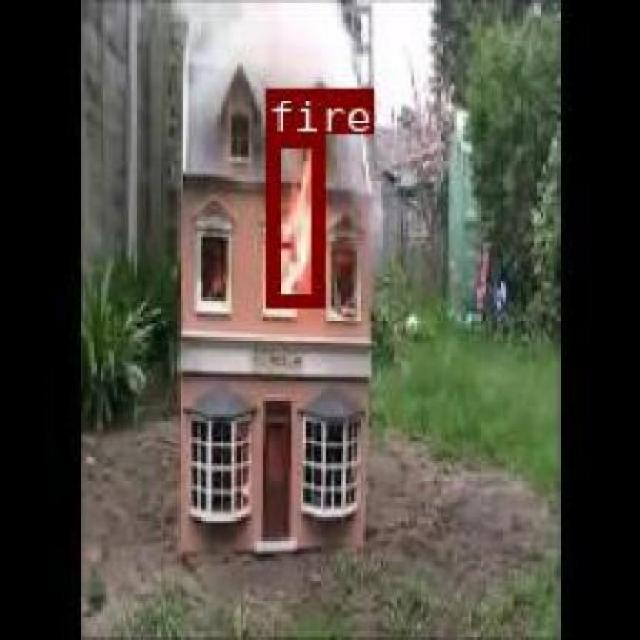Fire: (57, 171, 293, 218)
